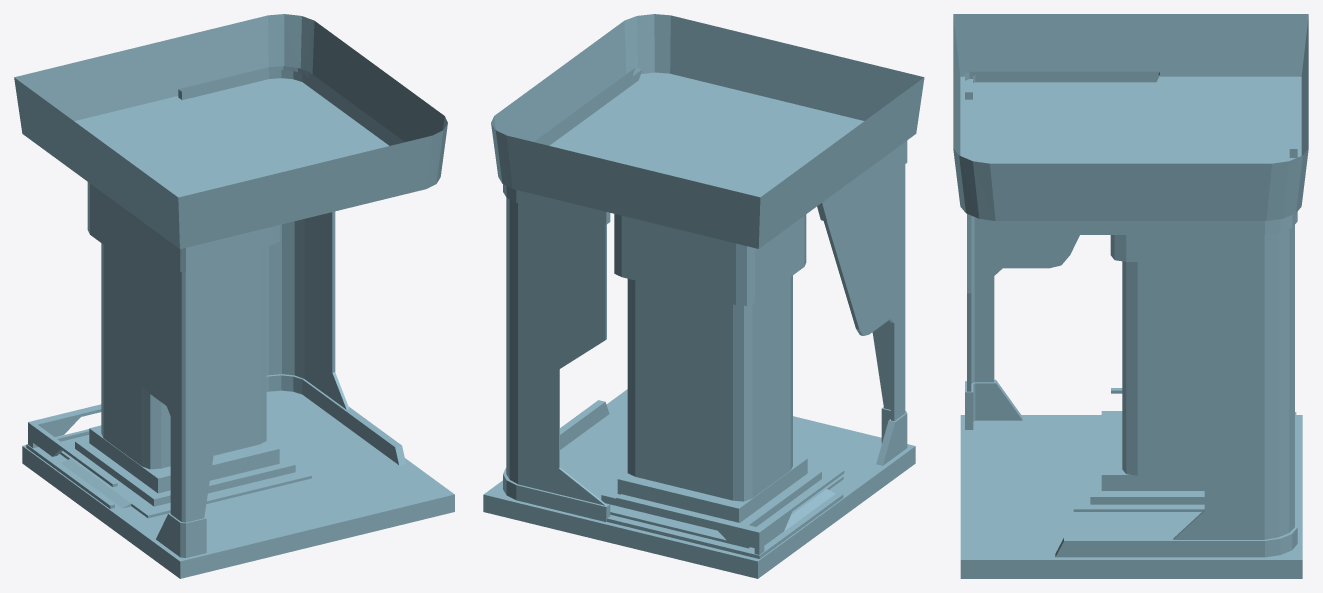
Rendered from BC_Collider_ShangJing_1.FBX.
3 renders of one model, left to right at view 1: azimuth 30°, elevation 25°; view 2: azimuth 150°, elevation 25°; view 3: azimuth 270°, elevation 25°, orthographic. The views are drawn at different scales.
Visible parts, largest first — view 1: BC_Collider_ShangJing_1; view 2: BC_Collider_ShangJing_1; view 3: BC_Collider_ShangJing_1.
Part boxes in pixels (x1=…): BC_Collider_ShangJing_1: x1=14, y1=14, x2=454, y2=578; BC_Collider_ShangJing_1: x1=483, y1=14, x2=924, y2=578; BC_Collider_ShangJing_1: x1=953, y1=14, x2=1308, y2=578.
Bounding box in the file's own units: 15.54 × 20.19 × 15.61.
